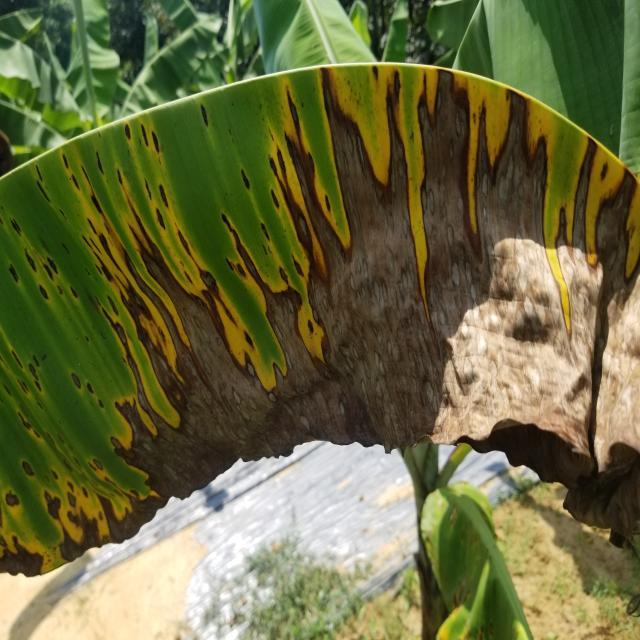Early_rust: (0, 38, 640, 583)
